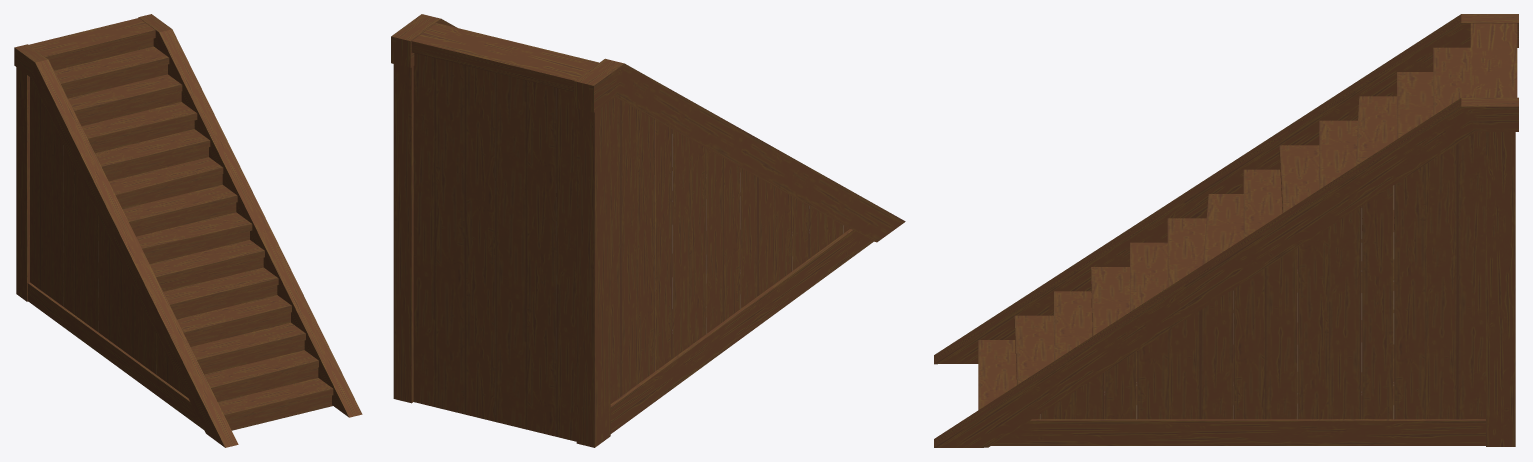
Rendered from stair_interior_solid.gltf.
The picture shows the model from 3 angles, left to right: view 1: azimuth 30°, elevation 25°; view 2: azimuth 150°, elevation 25°; view 3: azimuth 270°, elevation 25°; orthographic projection. The views are drawn at different scales.
Parts seen in each view (by area): view 1: Stair_Interior_Solid; view 2: Stair_Interior_Solid; view 3: Stair_Interior_Solid.
Boxes of the visible parts, x1=… form: Stair_Interior_Solid: x1=14, y1=14, x2=362, y2=447; Stair_Interior_Solid: x1=391, y1=14, x2=905, y2=447; Stair_Interior_Solid: x1=934, y1=14, x2=1518, y2=447.
Size of the model in its own units: 1.77 by 3.05 by 4.71.
Materials: 1 (1 with a texture image).
